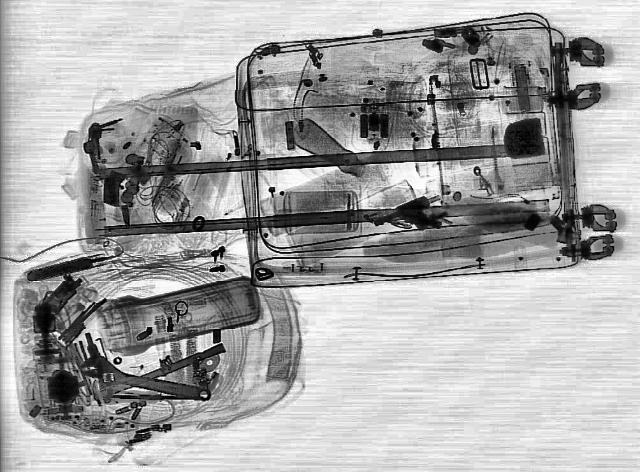Wrench: (70, 354, 218, 414)
